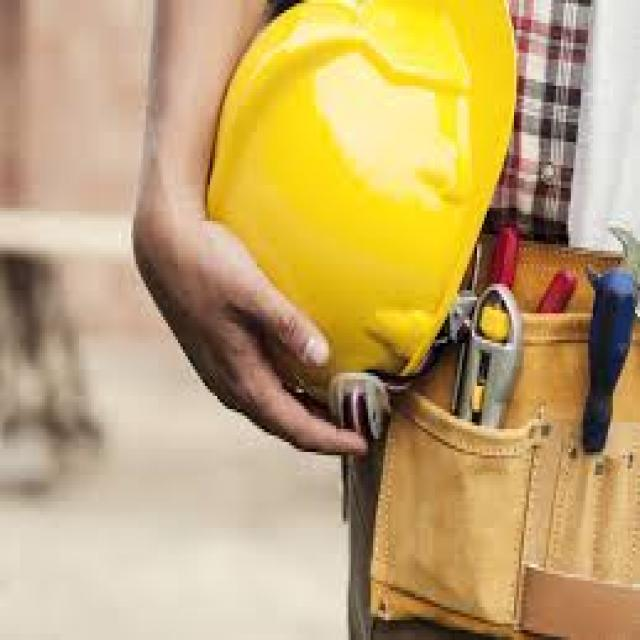Safety-Helmet: (192, 0, 536, 379)
